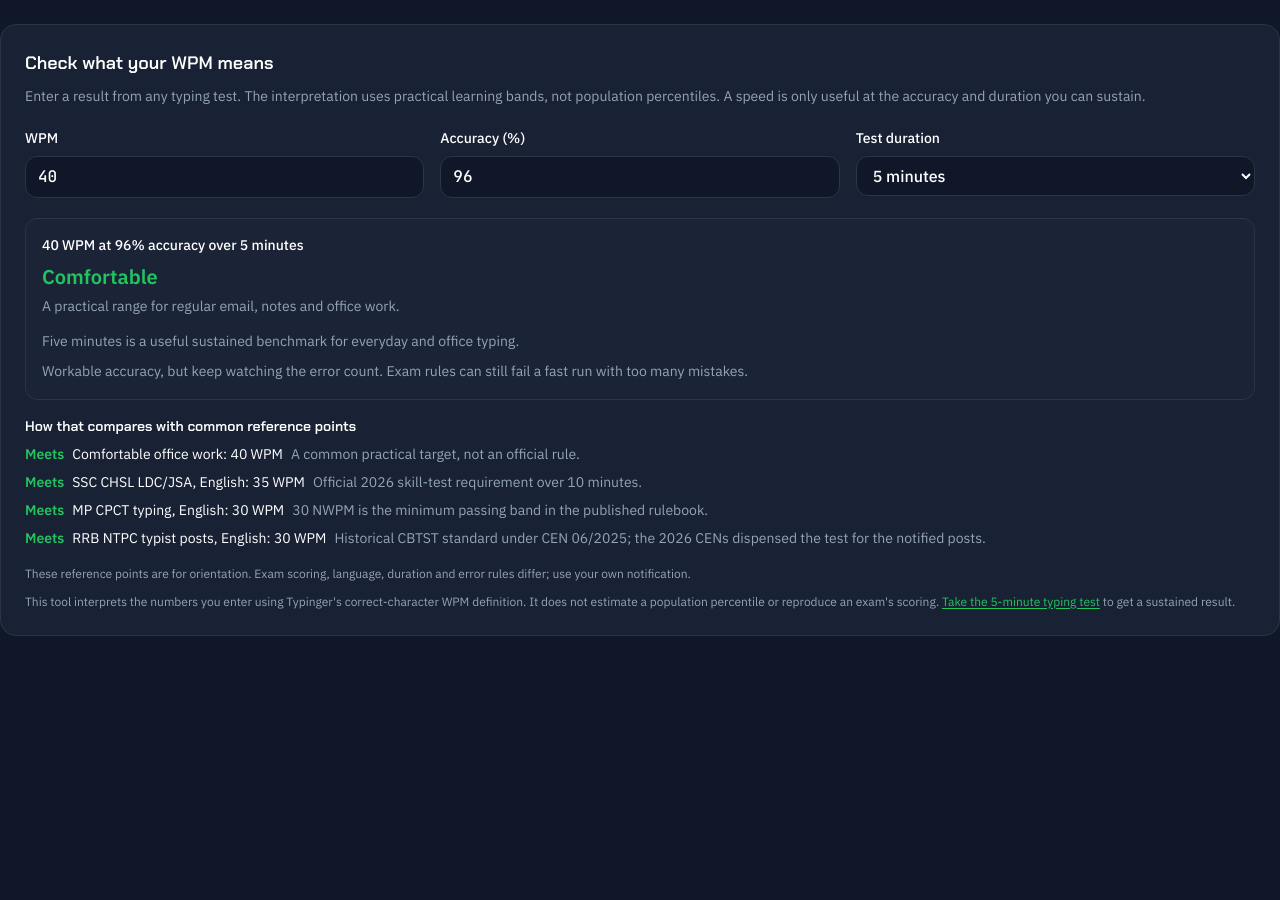
Test: WpmInterpreter › interprets WPM, accuracy and duration without claiming a percentile
Expected: the text with test id "wpm-interpreter-band" reads "Comfortable", [42,263,158,290]
Expected: the element with test id "wpm-interpreter-result" shows "40 WPM at 96% accuracy over 5 minutes", [25,218,1255,400]
Select "15 minutes" in the dropdown with test id "wpm-interpreter-duration": (1055,176) [856,156,1255,196]
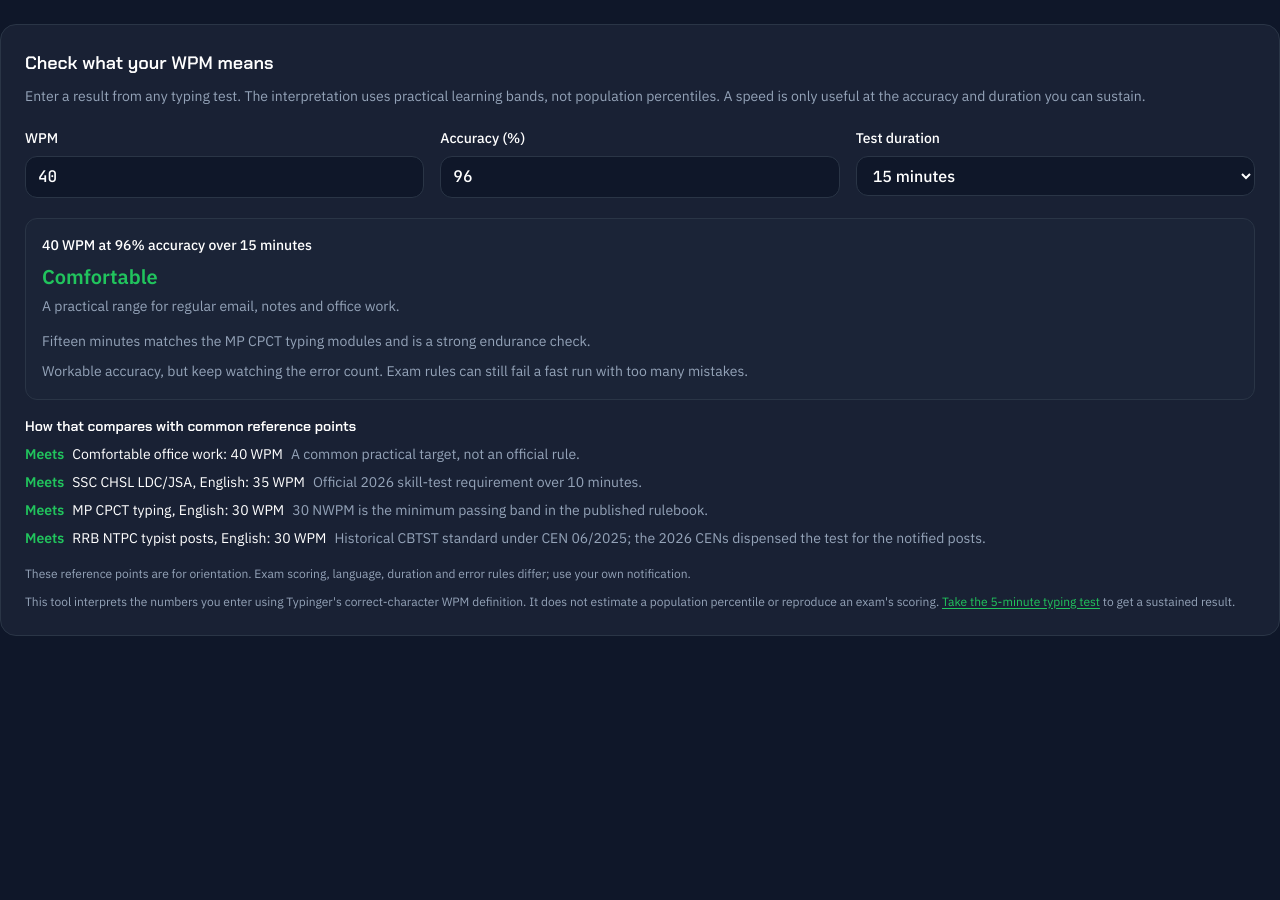
Result: the element with test id "wpm-interpreter-result" shows "Fifteen minutes matches the MP CPCT typing modules" at [42,332,591,350]
Replace the text in the number field with test id "wpm-interpreter-wpm" with "20": (225,177) [25,156,424,198]
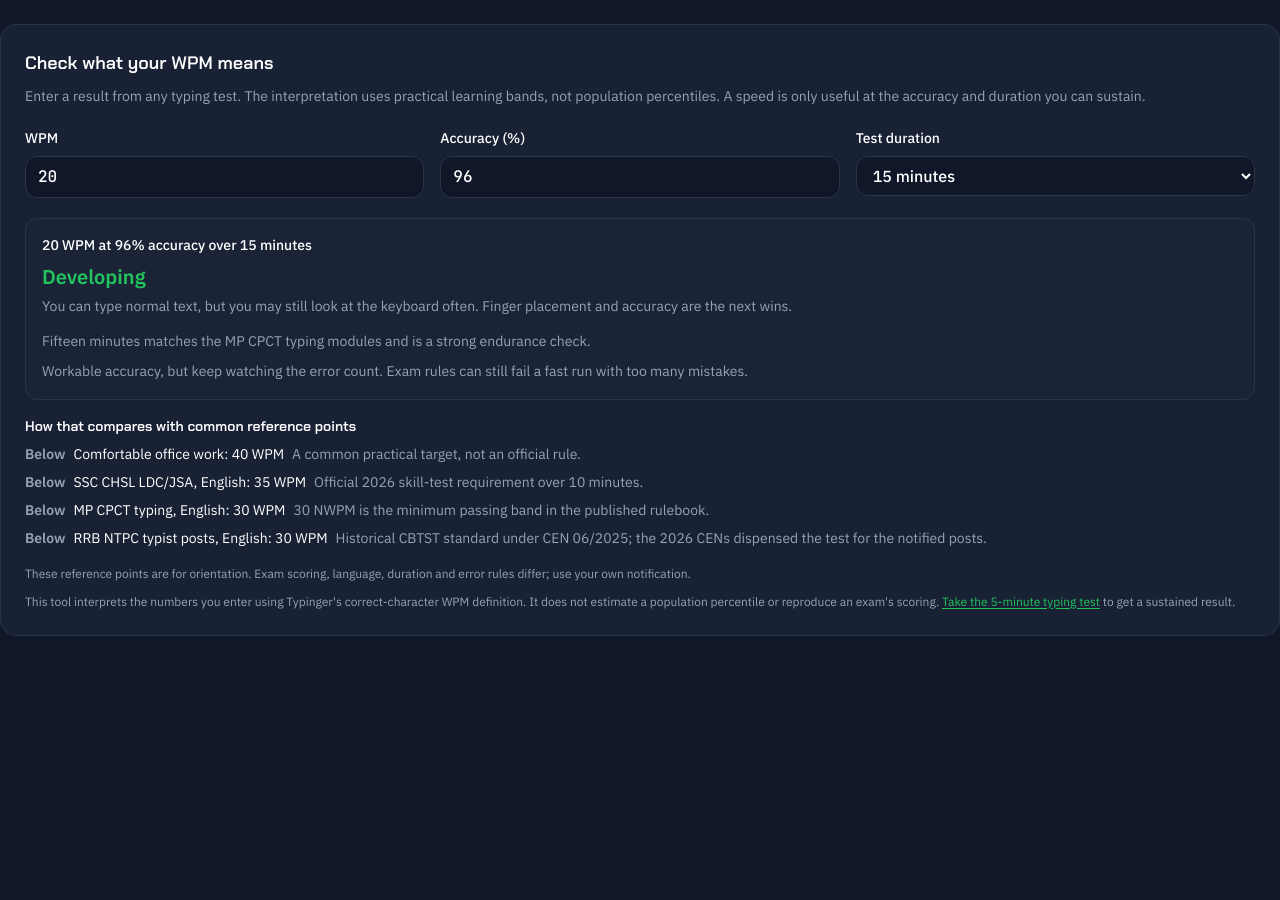
Replace the text in the number field with test id "wpm-interpreter-accuracy" with "90": (640,177) [440,156,840,198]
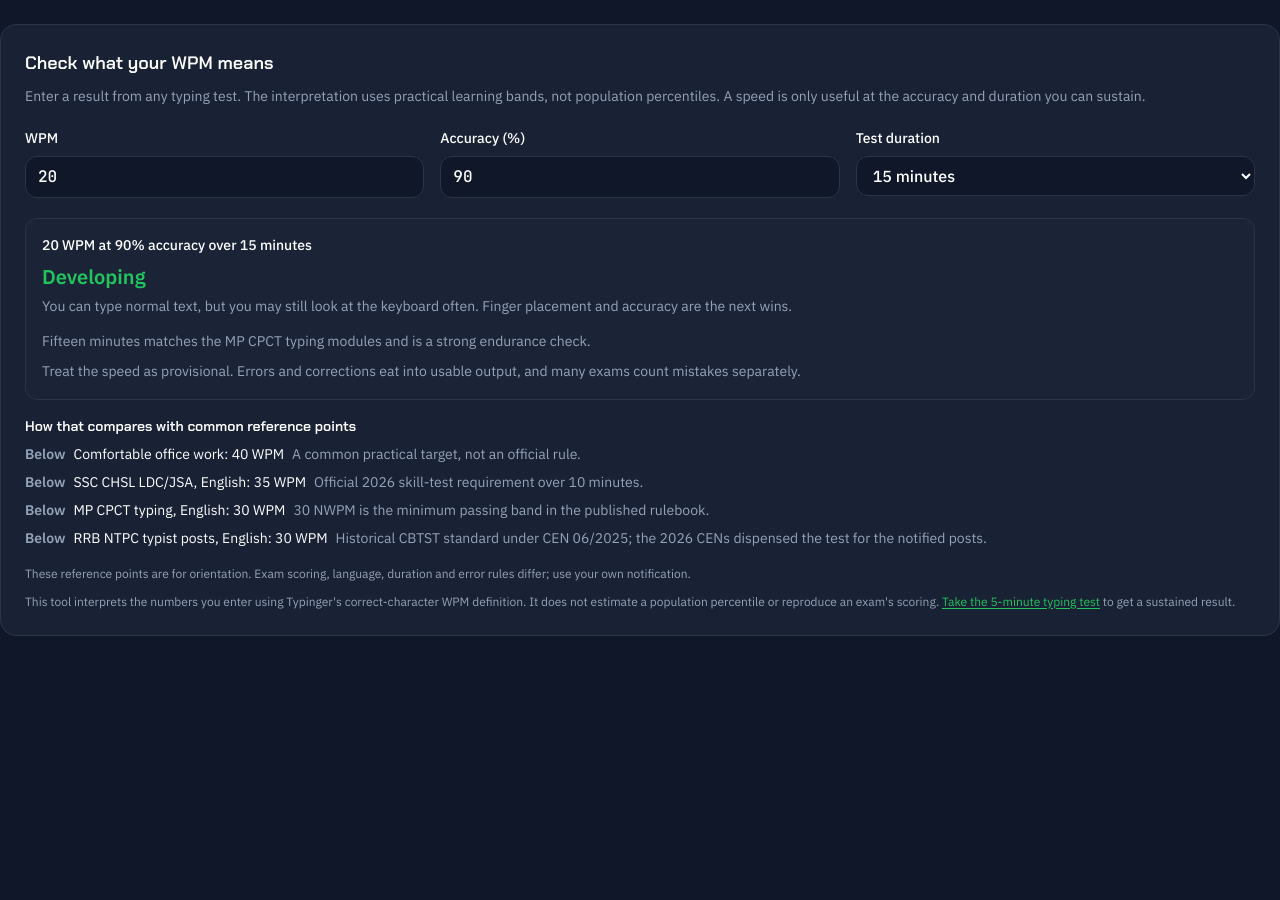
Select "1 minute" in the dropdown with test id "wpm-interpreter-duration": (1055,176) [856,156,1255,196]
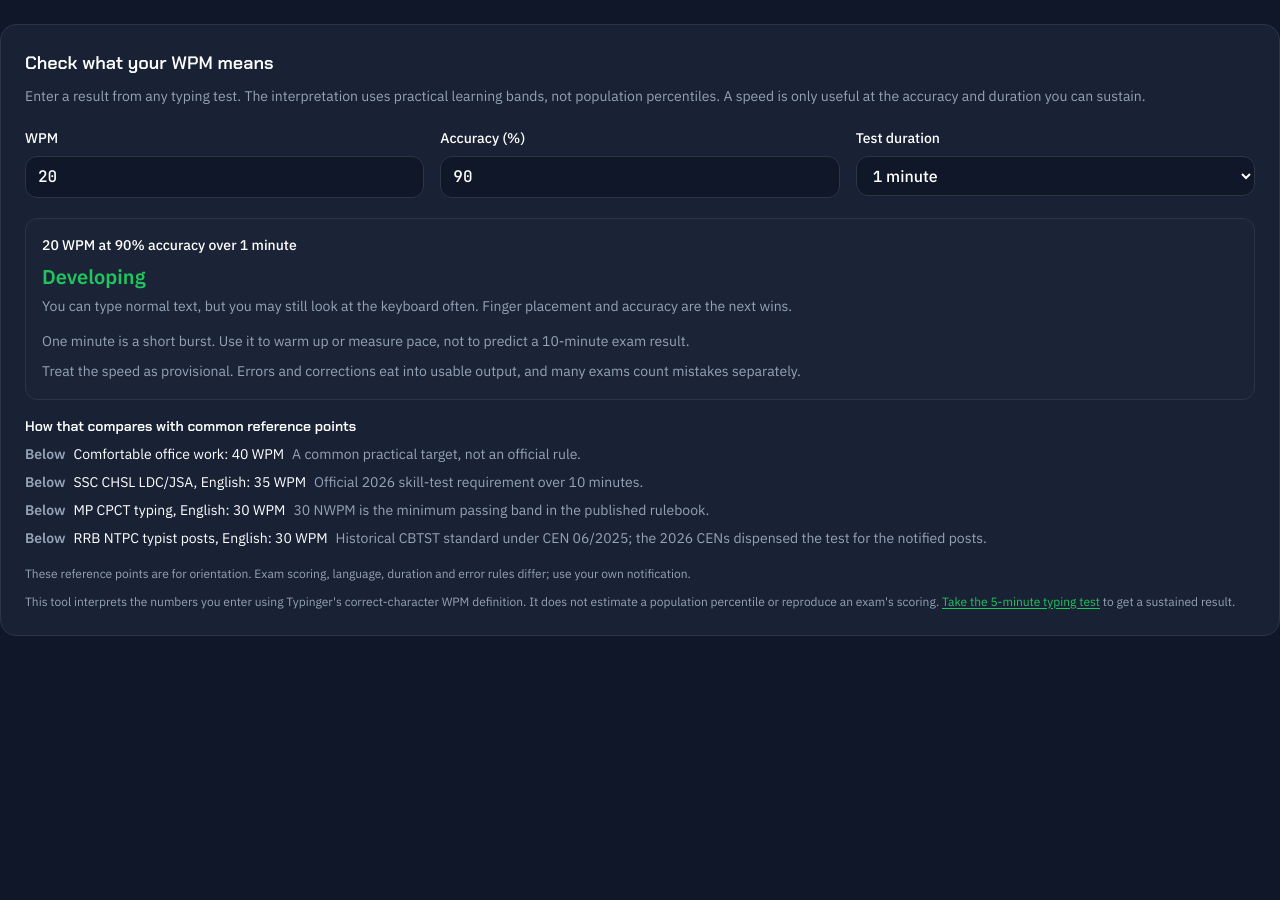
Result: the text with test id "wpm-interpreter-band" reads "Developing" at [42,263,146,290]
Result: the element with test id "wpm-interpreter-result" shows "Treat the speed as provisional" at [42,362,801,380]
Result: the element with test id "wpm-interpreter-result" shows "One minute is a short burst" at [42,332,690,350]
